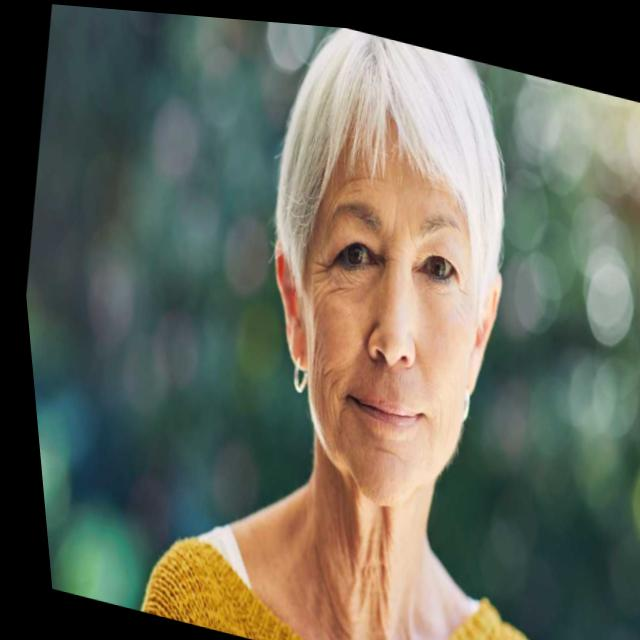Wrinkles: (302, 254, 357, 448), (322, 169, 383, 212)
